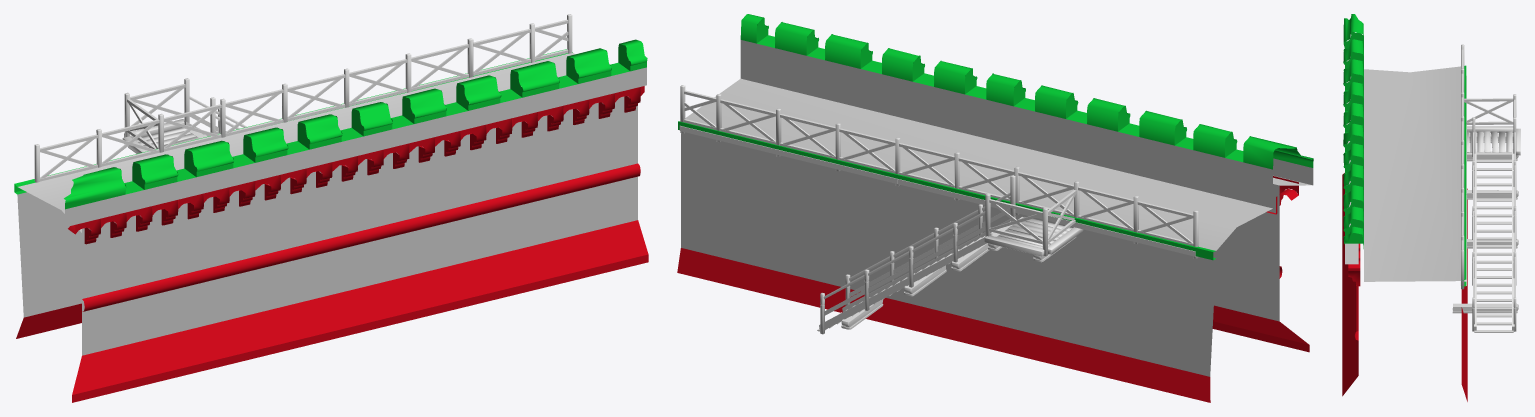
File: Wall_4 (1).fbx
3 views of the same model, side by side, from view 1: azimuth 30°, elevation 25°; view 2: azimuth 150°, elevation 25°; view 3: azimuth 270°, elevation 25° (orthographic). The views are drawn at different scales.
Parts seen in each view (by area): view 1: Group_4.015, Group_3.012, Group_3.013, Group_3.011; view 2: Group_4.015, Group_3.012, Group_3.013, Group_3.011; view 3: Group_4.015, Group_3.013, Group_3.012.
Boxes of the visible parts, bbox=[...] form: Group_4.015: bbox=[14, 39, 648, 402]; Group_3.012: bbox=[34, 14, 572, 182]; Group_3.013: bbox=[122, 78, 247, 153]; Group_3.011: bbox=[164, 104, 221, 151]; Group_4.015: bbox=[677, 14, 1313, 402]; Group_3.012: bbox=[679, 85, 1198, 258]; Group_3.013: bbox=[817, 175, 1083, 334]; Group_3.011: bbox=[1016, 172, 1075, 227]; Group_4.015: bbox=[1342, 14, 1467, 401]; Group_3.013: bbox=[1452, 94, 1520, 332]; Group_3.012: bbox=[1460, 44, 1466, 289].
Size of the model in its own units: 1948 by 690 by 655.
